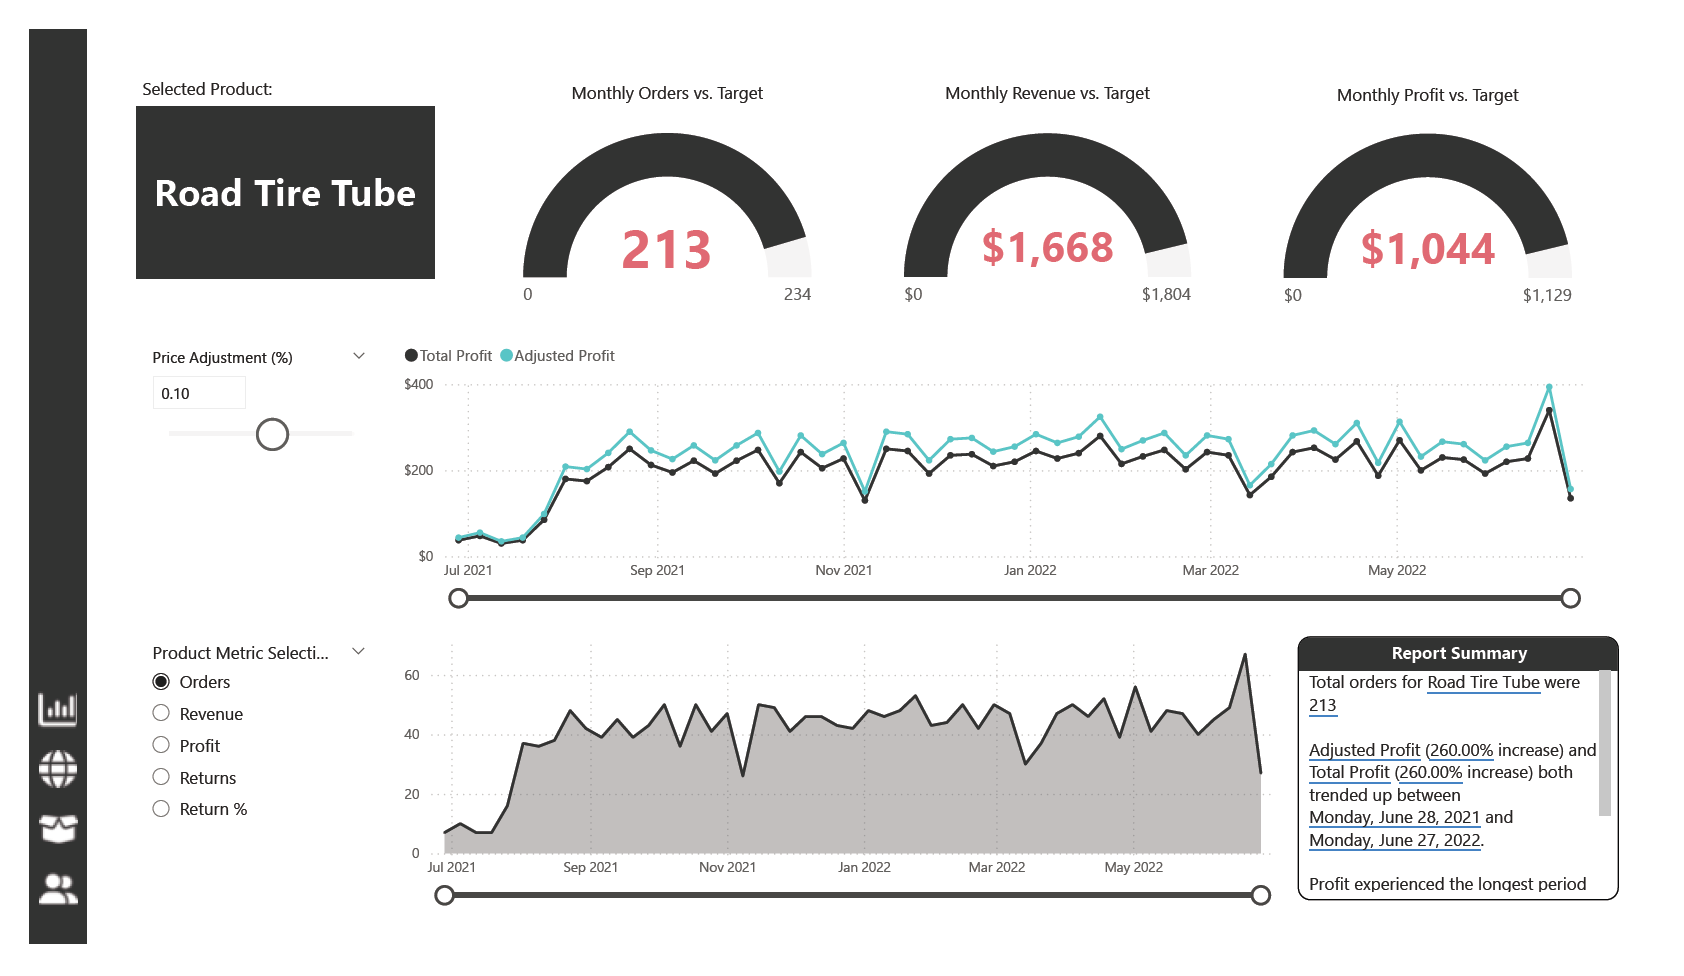

What the dashboard file says about the page in this screenshot:
{"tool":"powerbi","page":{"name":"Product Detail","canvas":[1280,720],"ordinal":2},"visuals":[{"type":"shape","box":[0,0,45,720],"z":0},{"type":"actionButton","box":[2.5,516.7,45.6,37.8],"z":0,"group":"g1"},{"type":"gauge","title":"Monthly Orders vs. Target","fields":{"Y":["Measure Table.Total Orders"],"MaxValue":["Measure Table.Order Target"]},"box":[383.7,41.5,236.9,203.7],"z":1000},{"type":"actionButton","box":[3.3,563.4,45.6,37.8],"z":1000,"group":"g1"},{"type":"gauge","title":"Monthly Revenue vs. Target","fields":{"Y":["Measure Table.Total Revenue"],"MaxValue":["Measure Table.Revenue Target"]},"box":[683.5,41.5,236.9,203.7],"z":2000},{"type":"actionButton","box":[3.3,611.1,45.6,37.8],"z":2000,"group":"g1"},{"type":"gauge","title":"Monthly Profit vs. Target","fields":{"Y":["Measure Table.Total Profit"],"MaxValue":["Measure Table.Profit Target"]},"box":[983.4,41.8,236.2,203.5],"z":3000},{"type":"actionButton","box":[3.3,657.8,45.6,37.8],"z":3000,"group":"g1"},{"type":"lineChart","title":"Profit Trending","fields":{"Category":["Calendar Lookup.Date Hierarchy.Year","Calendar Lookup.Date Hierarchy.Start of Month","Calendar Lookup.Date Hierarchy.Start of Week","Calendar Lookup.Date Hierarchy.Date"],"Y":["Measure Table.Total Profit","Measure Table.Adjusted Profit"]},"box":[290.5,237.4,952.8,221.5],"z":4000},{"type":"areaChart","title":"Return Trending","fields":{"Y":["Measure Table.Total Orders"],"Category":["Calendar Lookup.Date Hierarchy.Year","Calendar Lookup.Date Hierarchy.Start of Month","Calendar Lookup.Date Hierarchy.Start of Week","Calendar Lookup.Date Hierarchy.Date"]},"box":[290.5,471.3,708.7,221.5],"z":5000},{"type":"card","fields":{"Values":["Min(Product Lookup.ProductName)"]},"box":[83.6,61,235.1,134.5],"z":6000},{"type":"textbox","box":[83.6,32.8,136.8,36.2],"z":7000},{"type":"group","id":"g1","title":"Navigation Buttons","box":[2.5,516.7,46.4,178.9],"z":8000},{"type":"slicer","fields":{"Values":["Price Adjustment (%).Price Adjustment (%)"]},"box":[83.6,245.3,193.3,123.2],"z":9000},{"type":"slicer","fields":{"Values":["Product Metric Selection.Product Metric Selection"]},"box":[83.6,477,193.3,180.8],"z":10000},{"type":"textbox","title":"Report Summary","box":[999.2,478.1,253.2,208],"z":11000}]}

Visuals, with their boxes on the page's 1280x720 design canvas (x1, y1, x2, y2). These are canvas units, not pixel positions in the 1684x976 screenshot, which may show the page scaled, cropped or inside an application window:
shape: {"x1": 0, "y1": 0, "x2": 45, "y2": 720}
actionButton: {"x1": 2, "y1": 517, "x2": 48, "y2": 554}
"Monthly Orders vs. Target" gauge: {"x1": 384, "y1": 42, "x2": 621, "y2": 245}
actionButton: {"x1": 3, "y1": 563, "x2": 49, "y2": 601}
"Monthly Revenue vs. Target" gauge: {"x1": 684, "y1": 42, "x2": 920, "y2": 245}
actionButton: {"x1": 3, "y1": 611, "x2": 49, "y2": 649}
"Monthly Profit vs. Target" gauge: {"x1": 983, "y1": 42, "x2": 1220, "y2": 245}
actionButton: {"x1": 3, "y1": 658, "x2": 49, "y2": 696}
"Profit Trending" lineChart: {"x1": 290, "y1": 237, "x2": 1243, "y2": 459}
"Return Trending" areaChart: {"x1": 290, "y1": 471, "x2": 999, "y2": 693}
card - Min(Product Lookup.ProductName): {"x1": 84, "y1": 61, "x2": 319, "y2": 196}
textbox: {"x1": 84, "y1": 33, "x2": 220, "y2": 69}
"Navigation Buttons" group: {"x1": 2, "y1": 517, "x2": 49, "y2": 696}
slicer - Price Adjustment (%).Price Adjustment (%): {"x1": 84, "y1": 245, "x2": 277, "y2": 368}
slicer - Product Metric Selection.Product Metric Selection: {"x1": 84, "y1": 477, "x2": 277, "y2": 658}
"Report Summary" textbox: {"x1": 999, "y1": 478, "x2": 1252, "y2": 686}
